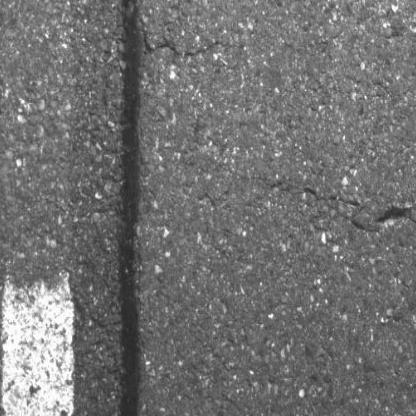Cracks: (267, 179, 416, 240)
